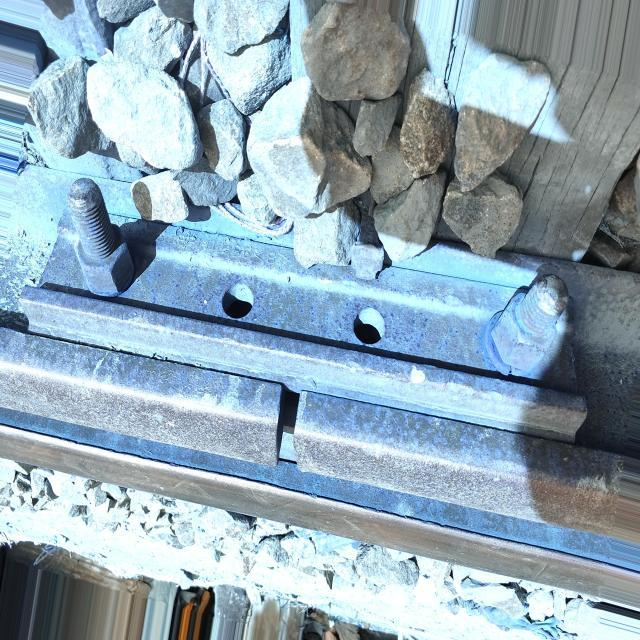Defective Joint: (27, 174, 590, 443)
